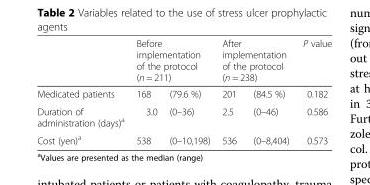table: (36, 37, 331, 145)
table column: (36, 37, 129, 145), (162, 37, 215, 145), (244, 37, 295, 145), (295, 37, 331, 145), (129, 37, 162, 145), (215, 37, 244, 145)
table column header: (36, 37, 331, 102)
table row: (36, 37, 331, 85), (36, 102, 331, 130), (36, 85, 331, 102), (36, 130, 331, 145)
table spanning cell: (36, 37, 129, 102), (129, 37, 215, 85), (215, 37, 295, 85), (295, 37, 331, 102)
